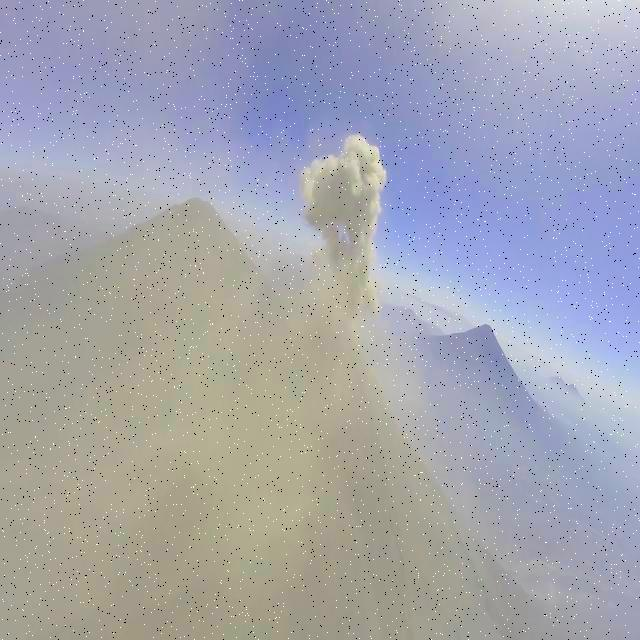Plume: (298, 115, 391, 324)
